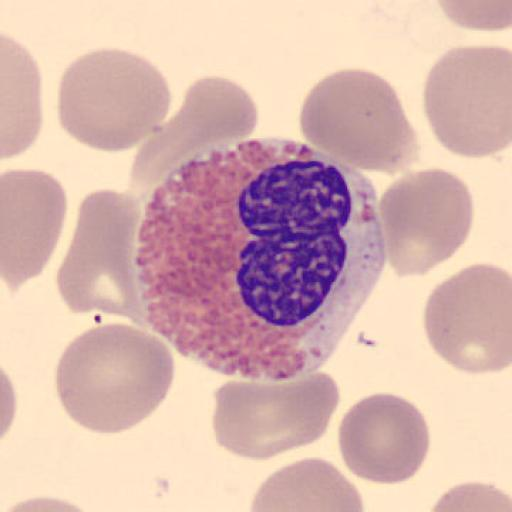RBC: (126, 73, 259, 198), (52, 320, 177, 436), (297, 66, 418, 176), (56, 46, 173, 154), (210, 369, 340, 462), (56, 190, 145, 323), (374, 165, 476, 279), (421, 44, 512, 159), (421, 261, 512, 375), (128, 104, 228, 205), (338, 390, 432, 486), (2, 166, 68, 292), (247, 455, 365, 512), (1, 29, 43, 163), (426, 478, 512, 512), (434, 0, 512, 34), (0, 492, 104, 512), (0, 363, 18, 446)
WBC: (135, 128, 384, 382)
